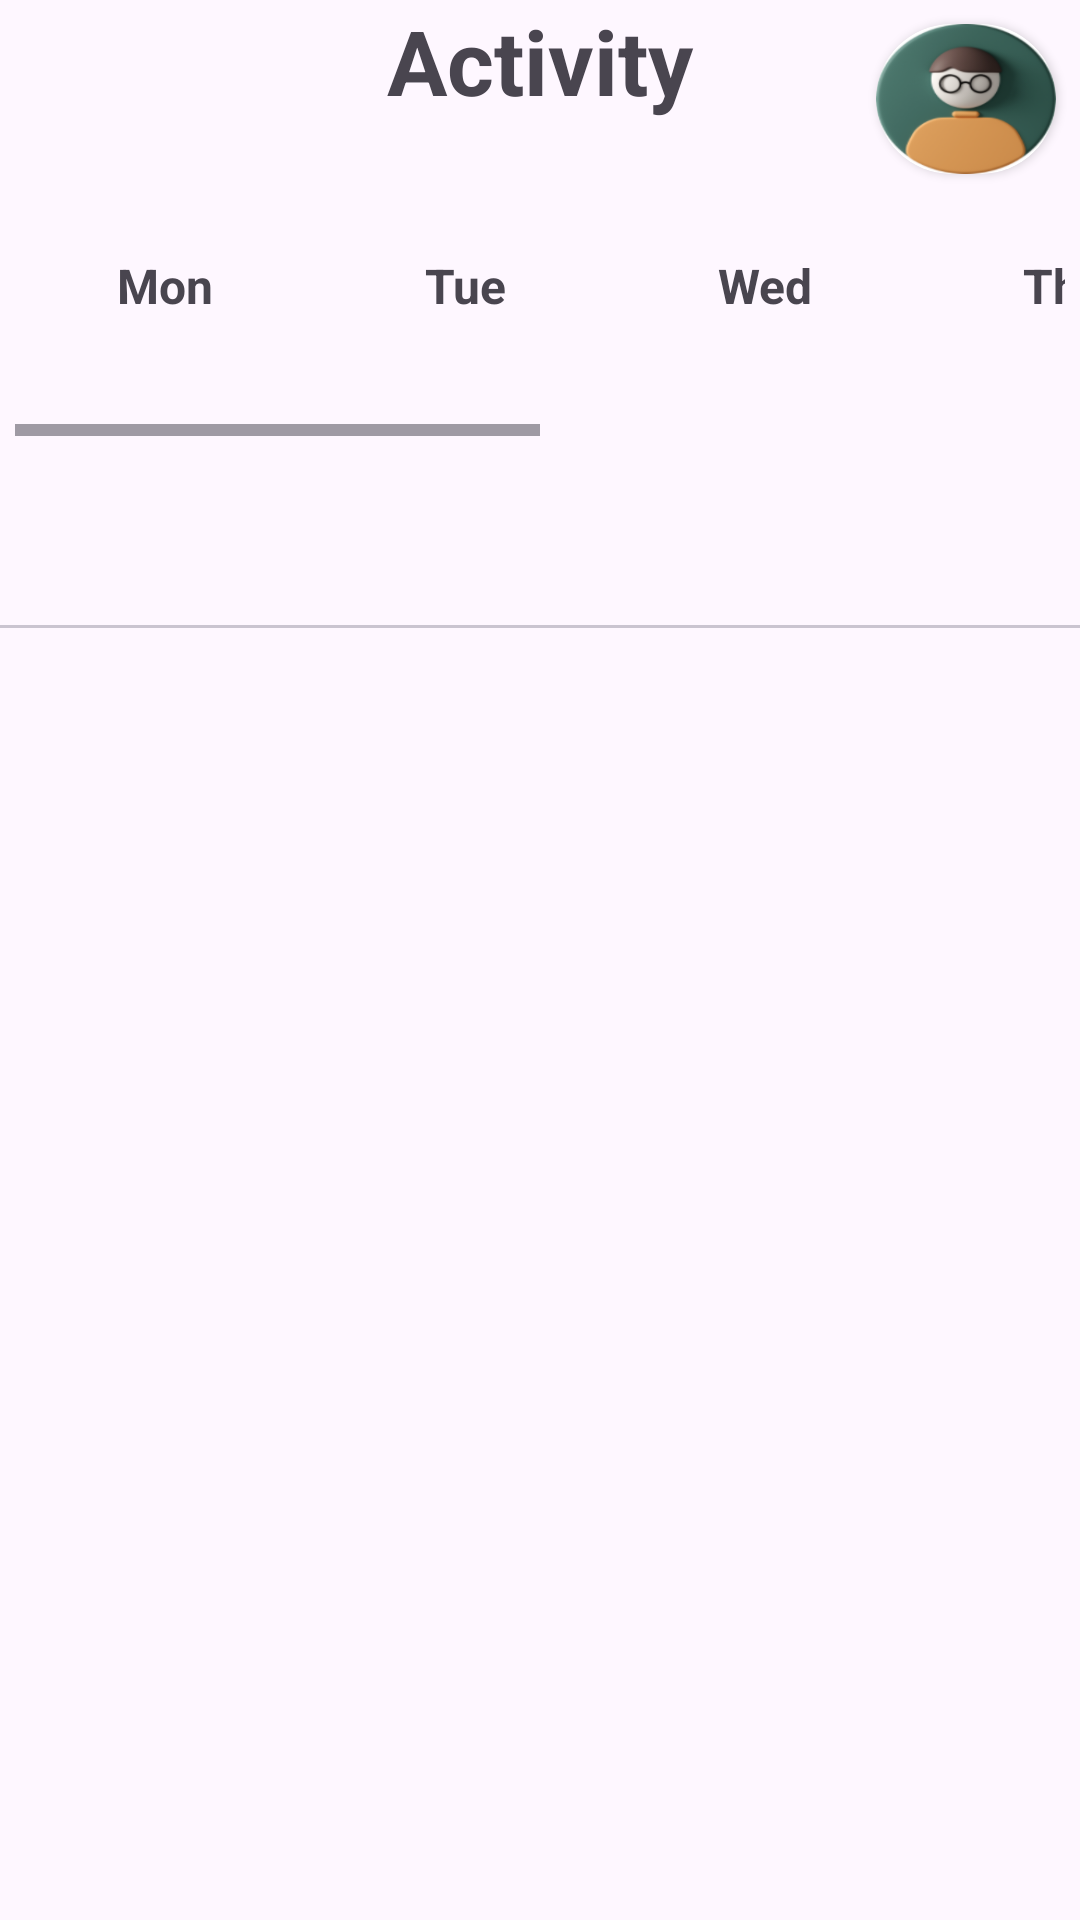

Icon bounding boxes for this 1080x1920 phone screenshot, format (x1, y1, x2, y2):
userprofile: (876, 24, 1056, 174)
